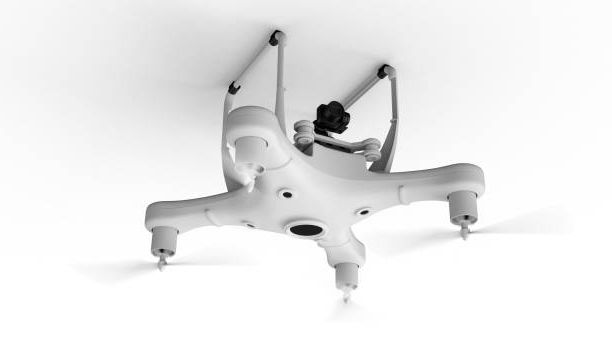Drone: (112, 24, 536, 311)
